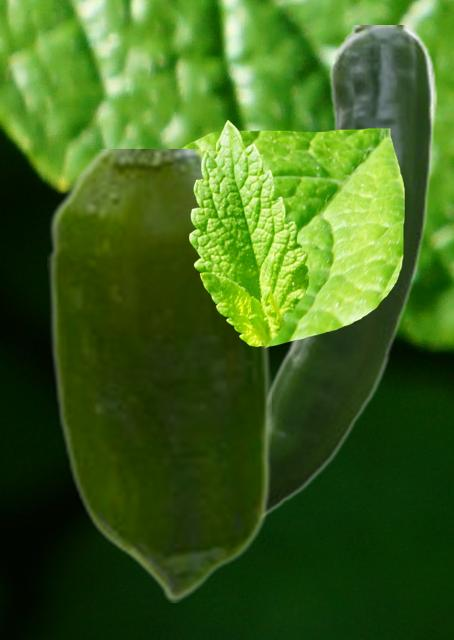green_chili: (47, 149, 270, 601), (267, 25, 437, 518)
